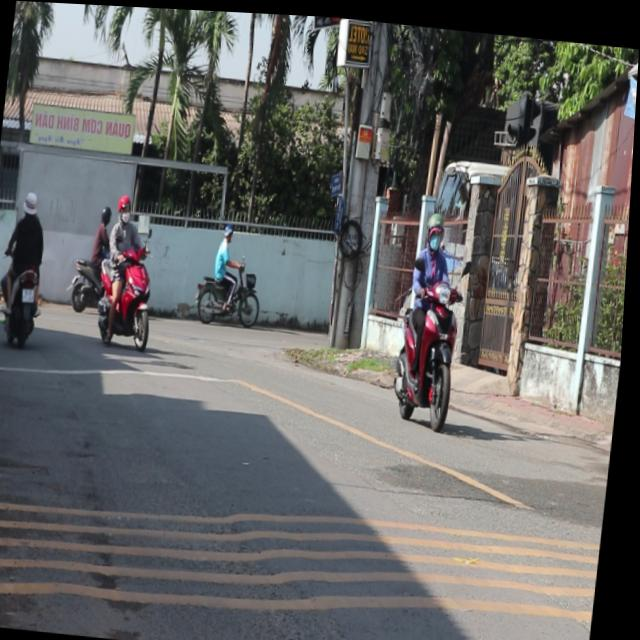helmet: (428, 206, 450, 246)
licenseplate: (393, 203, 478, 427)
